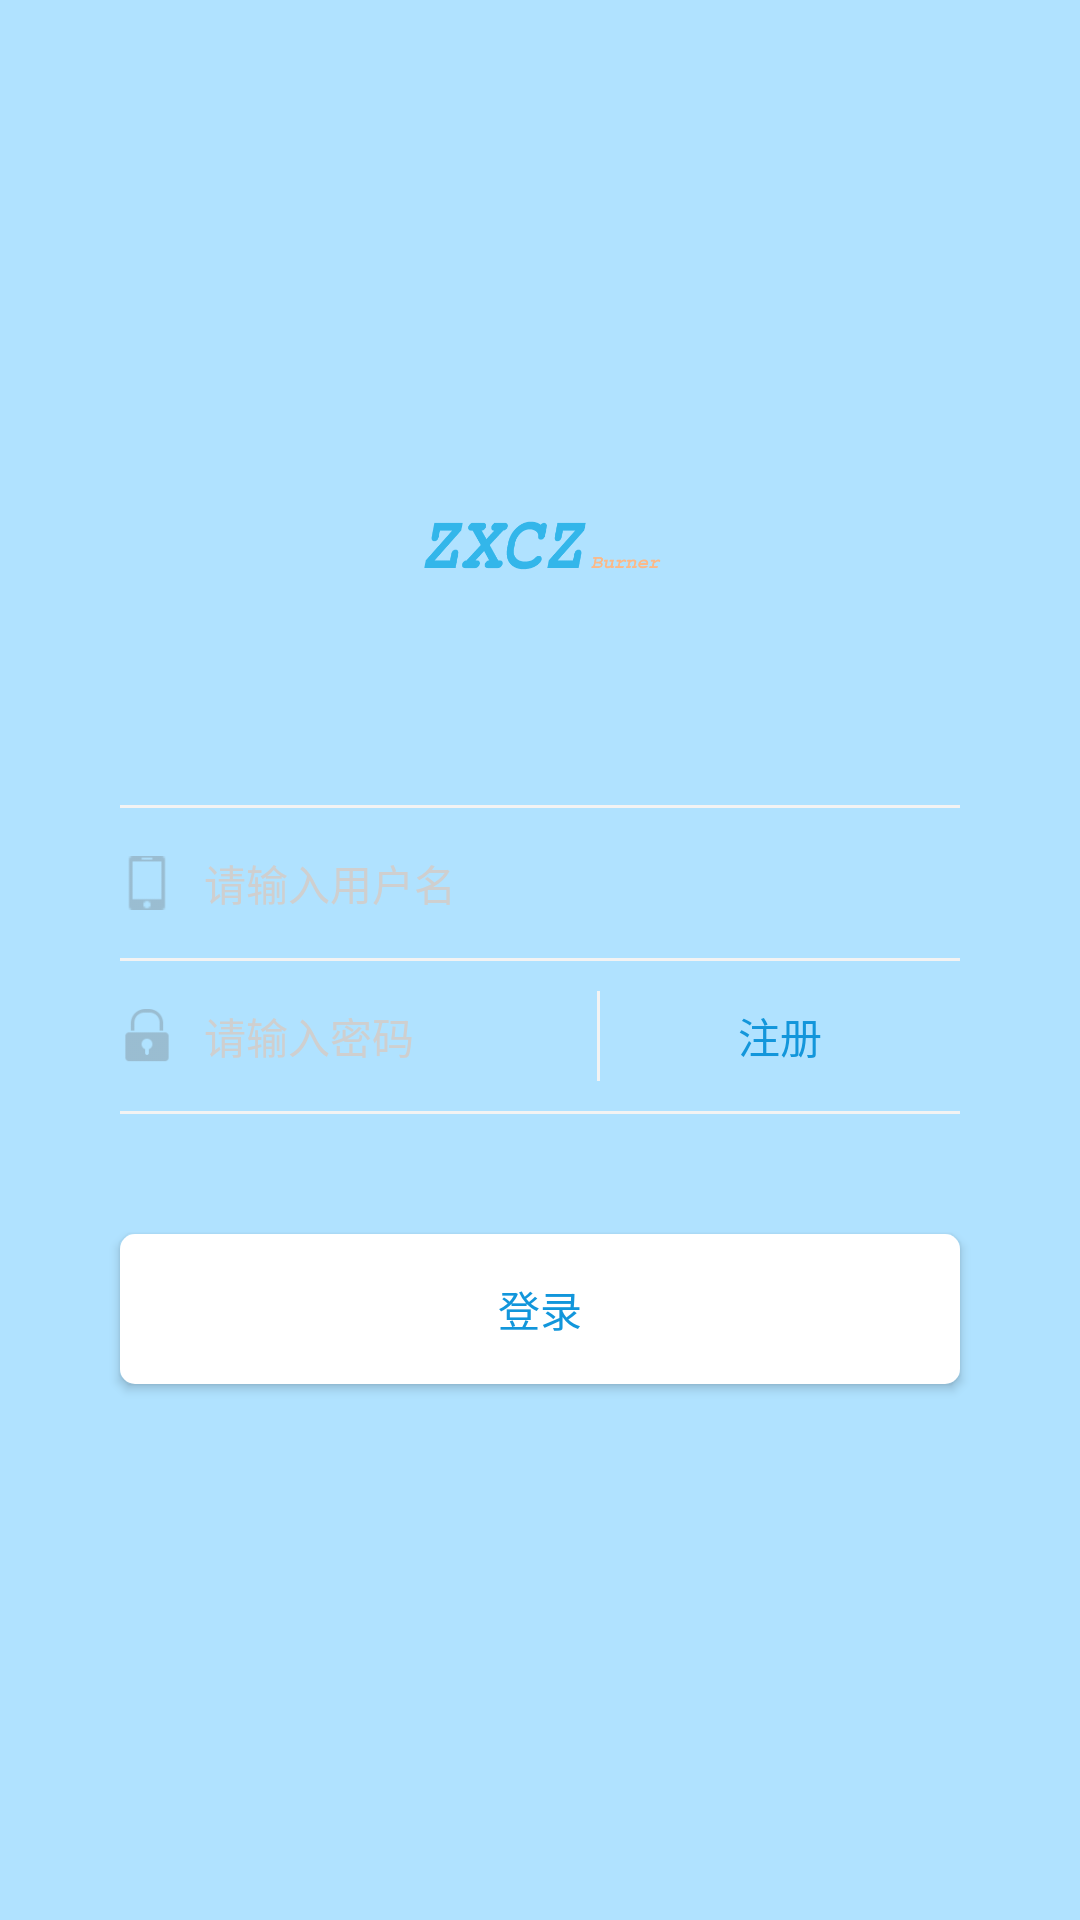

Where icons sit on this 1080*1920 app screen, as (x1, y1, x2, y2):
phone number: (129, 856, 165, 910)
